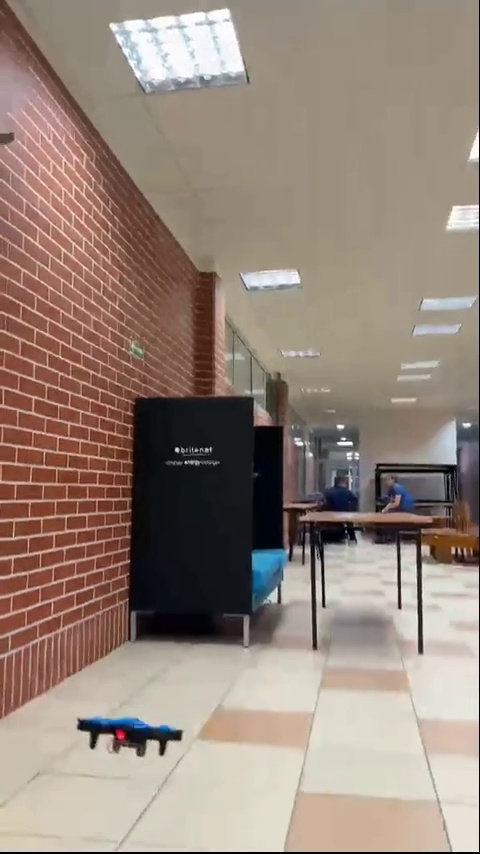drone: (72, 720, 188, 759)
no vest: (374, 474, 417, 522), (317, 474, 363, 517)
